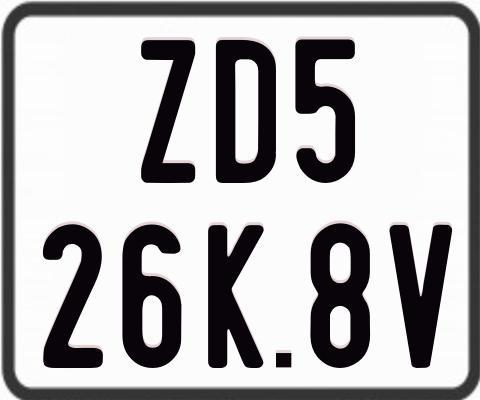2: (41, 223, 103, 369)
5: (293, 37, 355, 184)
6: (120, 223, 179, 367)
8: (308, 221, 368, 372)
D: (216, 39, 277, 188)
K: (205, 223, 263, 368)
V: (389, 223, 456, 372)
Z: (138, 40, 196, 188)
